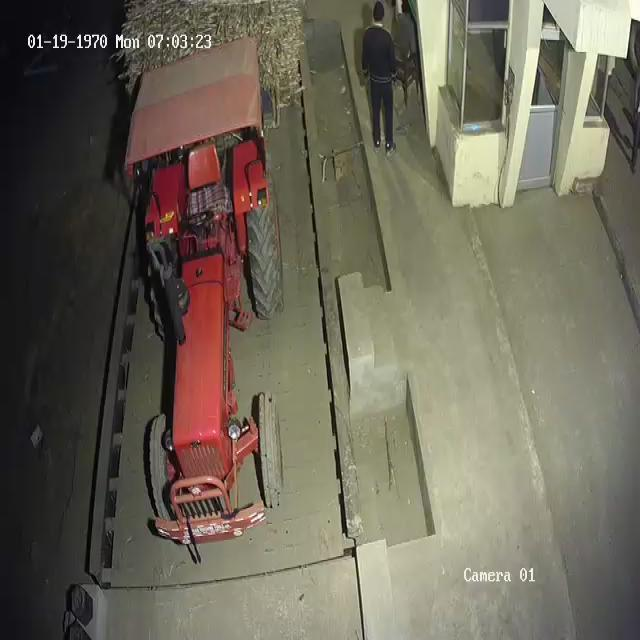Tratores - v5 YOLO V8L 2024-11-13: (132, 62, 280, 546)
